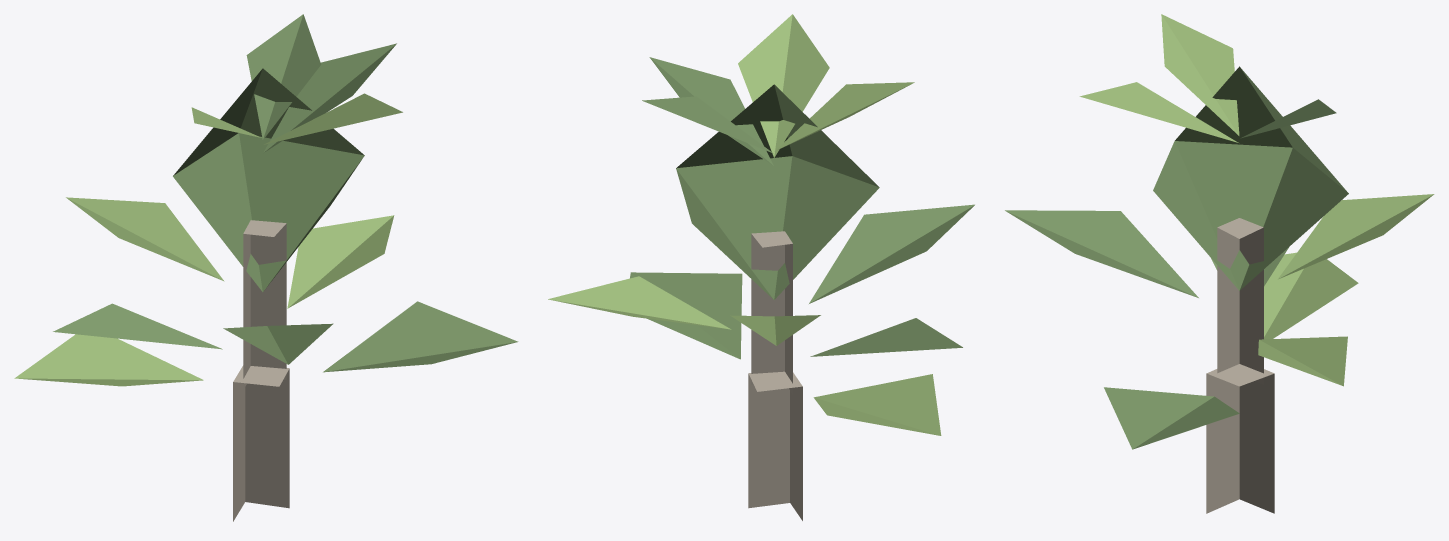
The model's file is shu.chuizhi@seedling__bloom.glb.
3 renders of one model, left to right at view 1: azimuth 30°, elevation 25°; view 2: azimuth 150°, elevation 25°; view 3: azimuth 270°, elevation 25°, orthographic. The views are drawn at different scales.
Parts seen in each view (by area): view 1: shu.chuizhi@seedling__bloom; view 2: shu.chuizhi@seedling__bloom; view 3: shu.chuizhi@seedling__bloom.
Part boxes in pixels (<box>): shu.chuizhi@seedling__bloom: <box>14,14,518,521</box>; shu.chuizhi@seedling__bloom: <box>548,14,974,520</box>; shu.chuizhi@seedling__bloom: <box>1005,14,1434,513</box>.
Bounding box in the file's own units: 0.9164 × 0.9461 × 0.8249.
